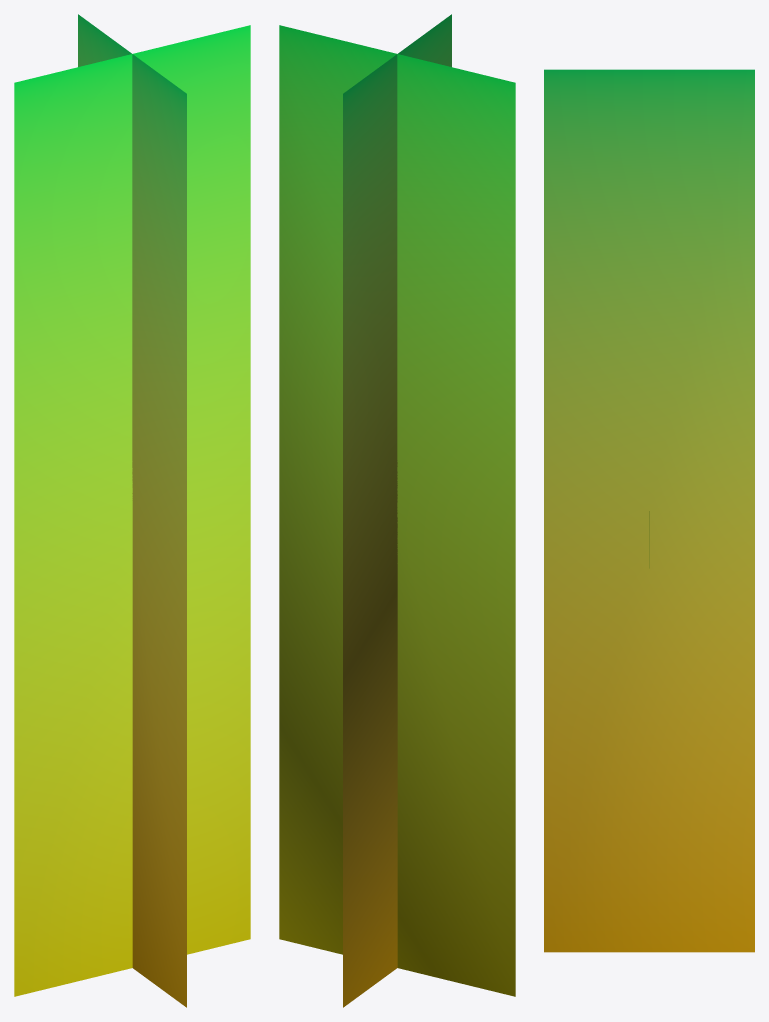
Rendered from SM_Flower_Cornflower_B_LOD3.fbx.
The picture shows the model from 3 angles, left to right: view 1: azimuth 30°, elevation 25°; view 2: azimuth 150°, elevation 25°; view 3: azimuth 270°, elevation 25°; orthographic projection. The views are drawn at different scales.
Visible parts, largest first — view 1: SM_Flower_Cornflower_B_LOD3; view 2: SM_Flower_Cornflower_B_LOD3; view 3: SM_Flower_Cornflower_B_LOD3.
Part boxes in pixels (x1,y1,x2,y2): SM_Flower_Cornflower_B_LOD3: [14, 14, 250, 1007]; SM_Flower_Cornflower_B_LOD3: [279, 14, 515, 1007]; SM_Flower_Cornflower_B_LOD3: [544, 69, 754, 952].
Size of the model in its own units: 0.1882 by 0.6956 by 0.1505.
